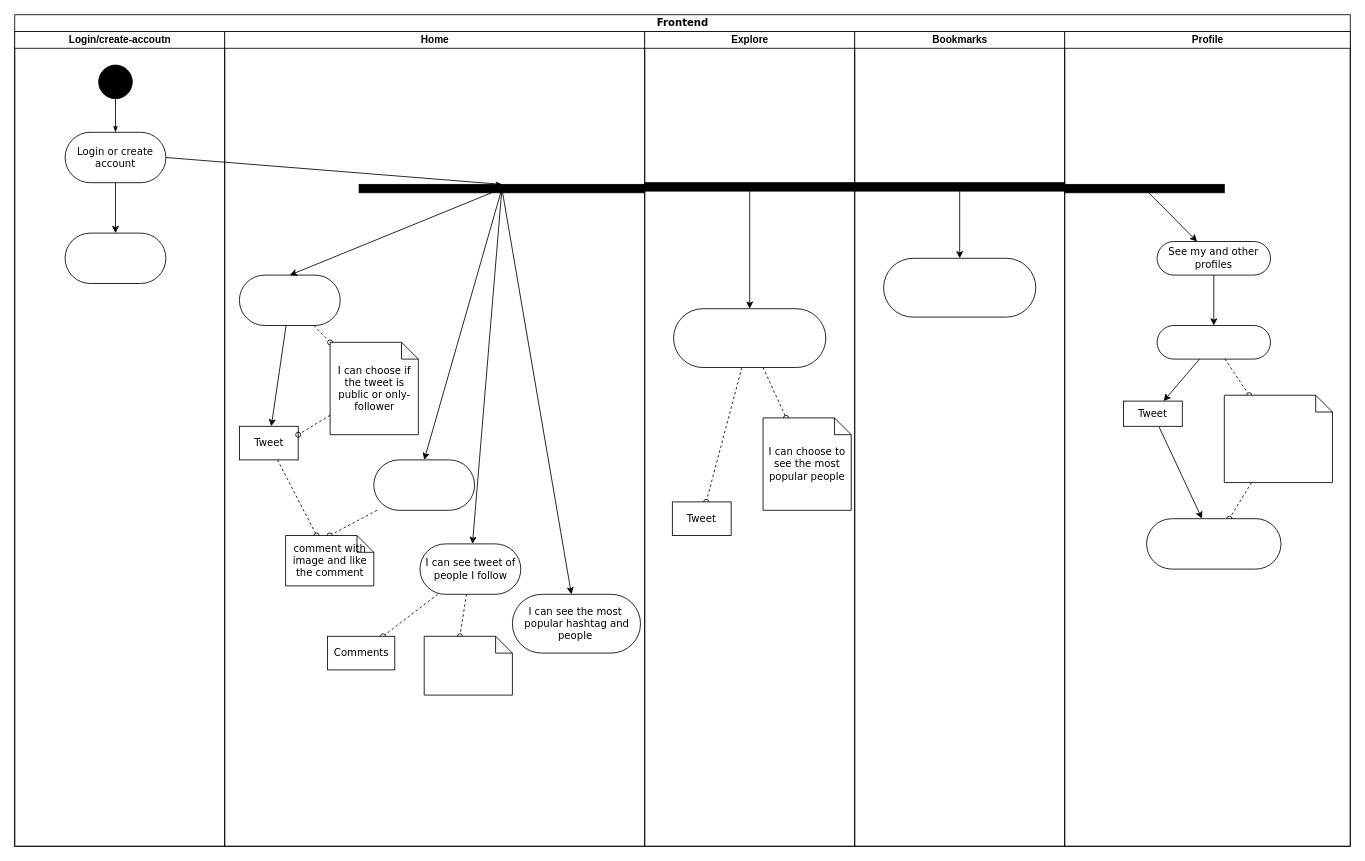
The diagram is 1365 pixels wide and 861 high, and some of its shapes have lost their labels. The centre of each missing label's shape, as x and y in pixels:
"close session" belongs at point (115, 258).
"Filter Tweets by - Tweets - Tweets and replies - Media -Likes" belongs at point (1277, 438).
"I can comment, retweet, like or save tweet" belongs at point (424, 484).
"I can see the saved tweets" belongs at point (959, 287).
"I can see the top, latest tweet, or tweet with media" belongs at point (749, 338).
"Post new Tweet with or without image" belongs at point (289, 300).
"see followers and following them or unfollow" belongs at point (1213, 543).
"the comments should have a posted time" belongs at point (467, 665).
"View Tweets, retweets" belongs at point (1213, 342).
